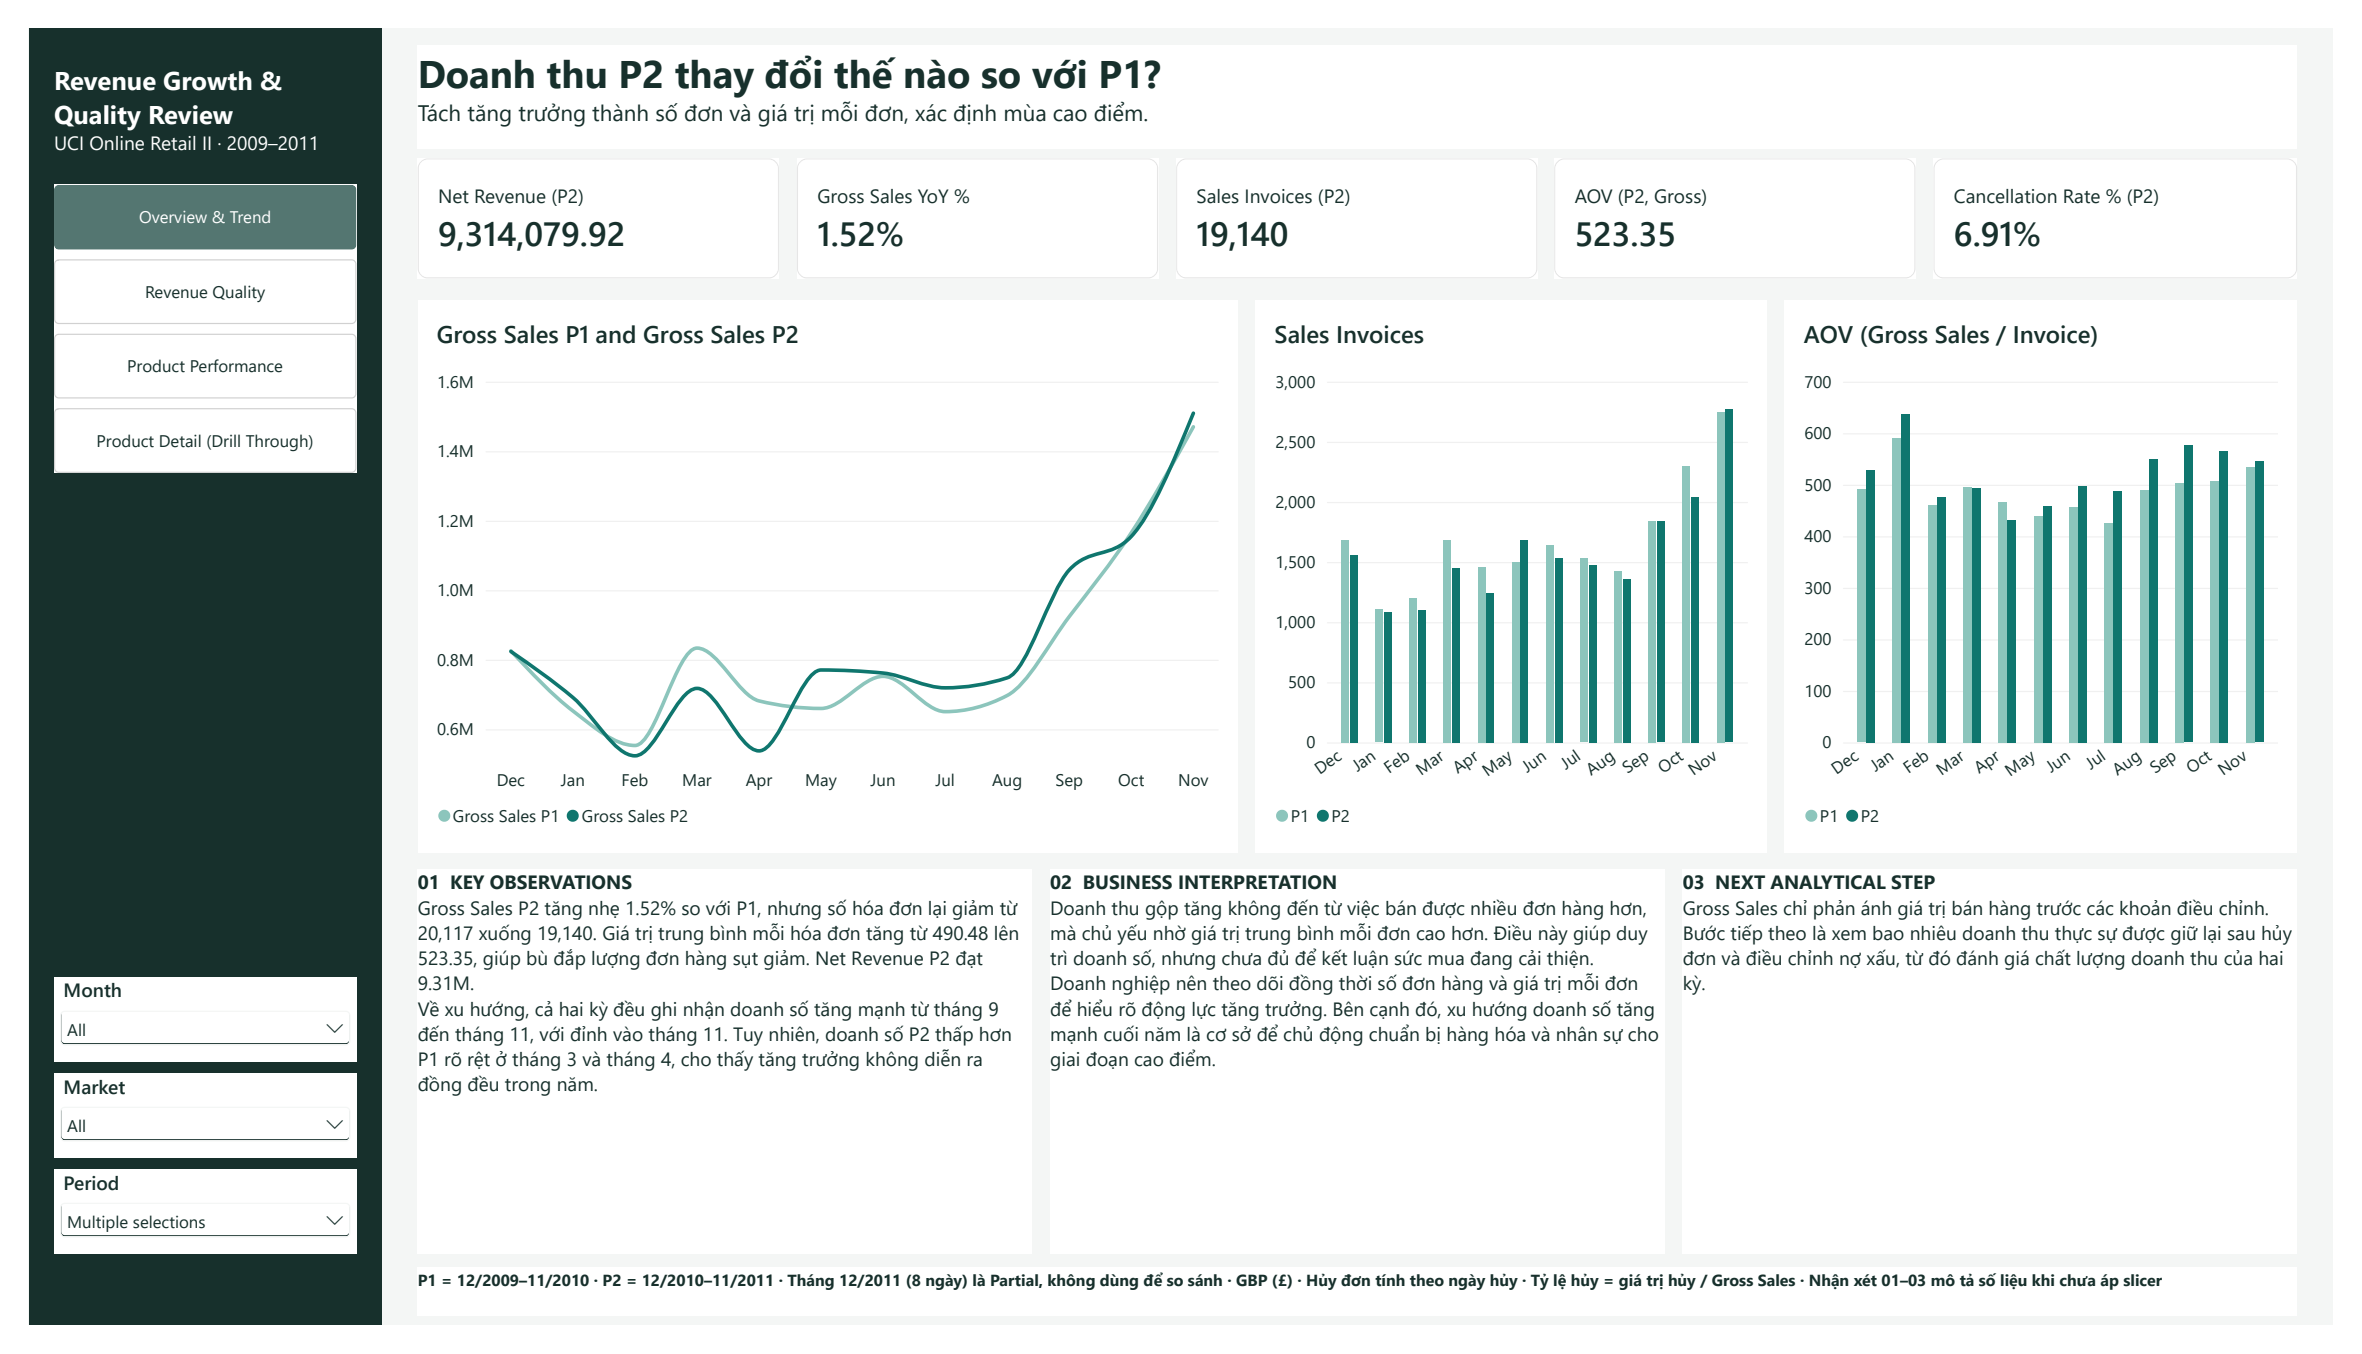

What the dashboard file says about the page in this screenshot:
{"tool":"powerbi","page":{"name":"Overview & Trend","canvas":[1920,1080],"ordinal":0},"visuals":[{"type":"shape","box":[0,0,294,1080],"z":0},{"type":"slicer","fields":{"Values":["core dim_date.month_name"]},"box":[21,790,252,70],"z":1000},{"type":"slicer","fields":{"Values":["core fact_invoice_line.Market"]},"box":[21,870,252,70],"z":2000},{"type":"slicer","fields":{"Values":["core dim_date.period_label"]},"box":[21,950,252,70],"z":3000},{"type":"cardVisual","fields":{"Data":["_Measures.Net Revenue"]},"box":[324,108,301,100],"z":4000},{"type":"cardVisual","fields":{"Data":["_Measures.YoY %"]},"box":[640,108,301,100],"z":5000},{"type":"cardVisual","fields":{"Data":["_Measures.Sales Invoices"]},"box":[956,108,301,100],"z":6000},{"type":"cardVisual","fields":{"Data":["_Measures.AOV"]},"box":[1271,108,301,100],"z":7000},{"type":"cardVisual","fields":{"Data":["_Measures.Cancellation Rate %"]},"box":[1587,108,303,100],"z":8000},{"type":"lineChart","title":"Gross Sales P1 and Gross Sales P2","fields":{"Category":["core dim_date.month_name"],"Y":["_Measures.Gross Sales P1","_Measures.Gross Sales P2"]},"box":[324,226,683,460],"z":9000},{"type":"clusteredColumnChart","title":"Sales Invoices","fields":{"Category":["core dim_date.month_name"],"Series":["core dim_date.period_label"],"Y":["_Measures.Sales Invoices"]},"box":[1022,226,426,460],"z":10000},{"type":"clusteredColumnChart","title":"AOV (Gross Sales / Invoice)","fields":{"Category":["core dim_date.month_name"],"Series":["core dim_date.period_label"],"Y":["_Measures.AOV"]},"box":[1463,226,427,460],"z":11000},{"type":"textbox","box":[324,14,1566,86],"z":12000},{"type":"pageNavigator","box":[21,130,252,240],"z":13000},{"type":"textbox","box":[324,700,512,320],"z":13001},{"type":"textbox","box":[851,700,512,320],"z":13002},{"type":"textbox","box":[1378,700,512,320],"z":13003},{"type":"textbox","box":[324,1032,1566,40],"z":13004},{"type":"textbox","box":[21,28,252,80],"z":13005}]}

Visuals, with their boxes on the page's 1920x1080 design canvas (x1, y1, x2, y2). These are canvas units, not pixel positions in the 2362x1354 screenshot, which may show the page scaled, cropped or inside an application window:
shape: 0 0 294 1080
slicer - core dim_date.month_name: 21 790 273 860
slicer - core fact_invoice_line.Market: 21 870 273 940
slicer - core dim_date.period_label: 21 950 273 1020
cardVisual - _Measures.Net Revenue: 324 108 625 208
cardVisual - _Measures.YoY %: 640 108 941 208
cardVisual - _Measures.Sales Invoices: 956 108 1257 208
cardVisual - _Measures.AOV: 1271 108 1572 208
cardVisual - _Measures.Cancellation Rate %: 1587 108 1890 208
"Gross Sales P1 and Gross Sales P2" lineChart: 324 226 1007 686
"Sales Invoices" clusteredColumnChart: 1022 226 1448 686
"AOV (Gross Sales / Invoice)" clusteredColumnChart: 1463 226 1890 686
textbox: 324 14 1890 100
pageNavigator: 21 130 273 370
textbox: 324 700 836 1020
textbox: 851 700 1363 1020
textbox: 1378 700 1890 1020
textbox: 324 1032 1890 1072
textbox: 21 28 273 108
